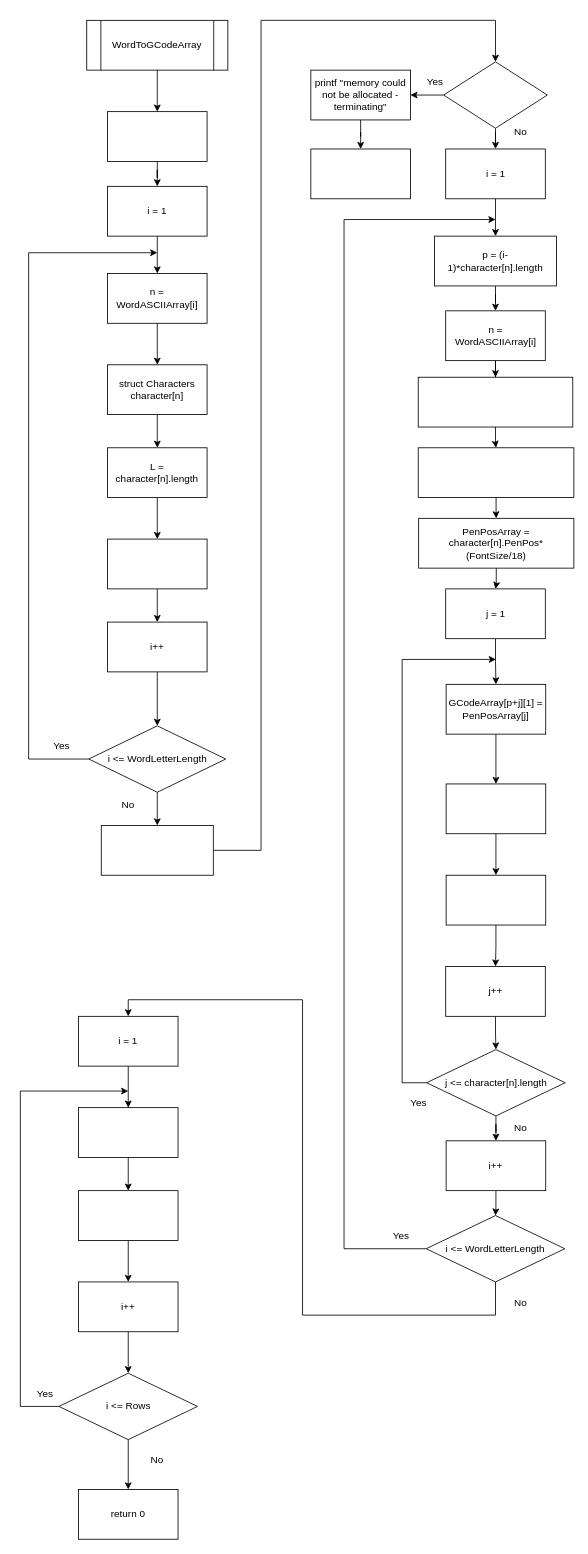
Some shapes in this 588 by 1554 pixel diagram are drawn without their labels. Each missing label, with the centre of its shape:
GCodeArray[i][2] = GCodeArray[i][2] + XNewStart: pixel 128 1132
GCodeArray[i][3] = GCodeArray[i][3] + YNewStart: pixel 128 1215
GCodeArray[p+j][2] = XPosArray[j]: pixel 495 808
GCodeArray[p+j][3] = YPosArray[j]: pixel 495 899
GCodeArray[Rows][3] = calloc(Rows * 3): pixel 156 850
NULL = true?: pixel 495 94
return -1: pixel 360 173
Rows = 0: pixel 157 136
Rows = Rows + L: pixel 157 563
XPosArray = character[n].XPos*(FontSize/18): pixel 495 401
YPosArray = character[n].YPos*(FontSize/18): pixel 495 472
